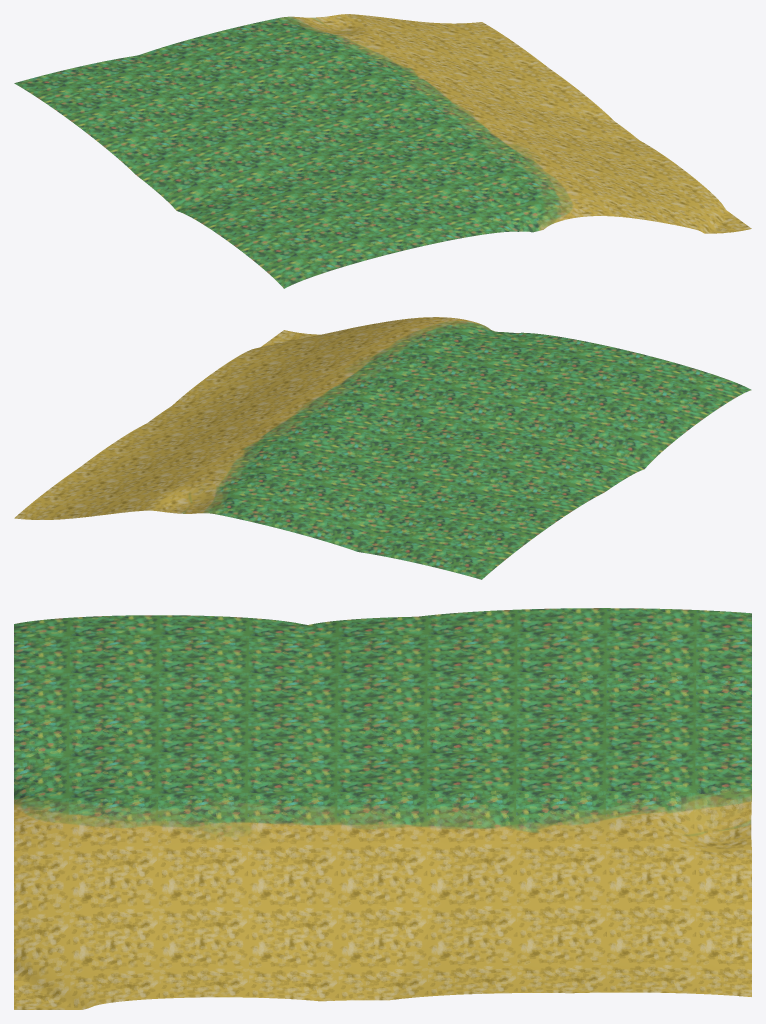
File: beach_ground3.glb
3 renders of one model, top to bottom at view 1: azimuth 30°, elevation 25°; view 2: azimuth 150°, elevation 25°; view 3: azimuth 270°, elevation 25°, orthographic. The views are drawn at different scales.
Visible parts, largest first — view 1: Beach.001; view 2: Beach.001; view 3: Beach.001.
Boxes of the visible parts, left/top/right/bottom form: Beach.001: left=14, top=14, right=751, bottom=288; Beach.001: left=14, top=317, right=751, bottom=579; Beach.001: left=14, top=608, right=751, bottom=1009.
Size of the model in its own units: 200 by 27.12 by 200.
1 material, 1 textured.
